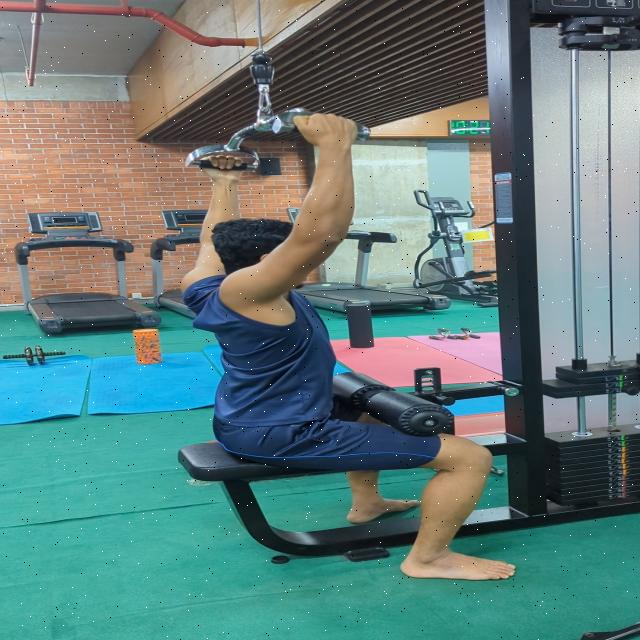Normal_LatPulldown: (125, 118, 542, 592)
